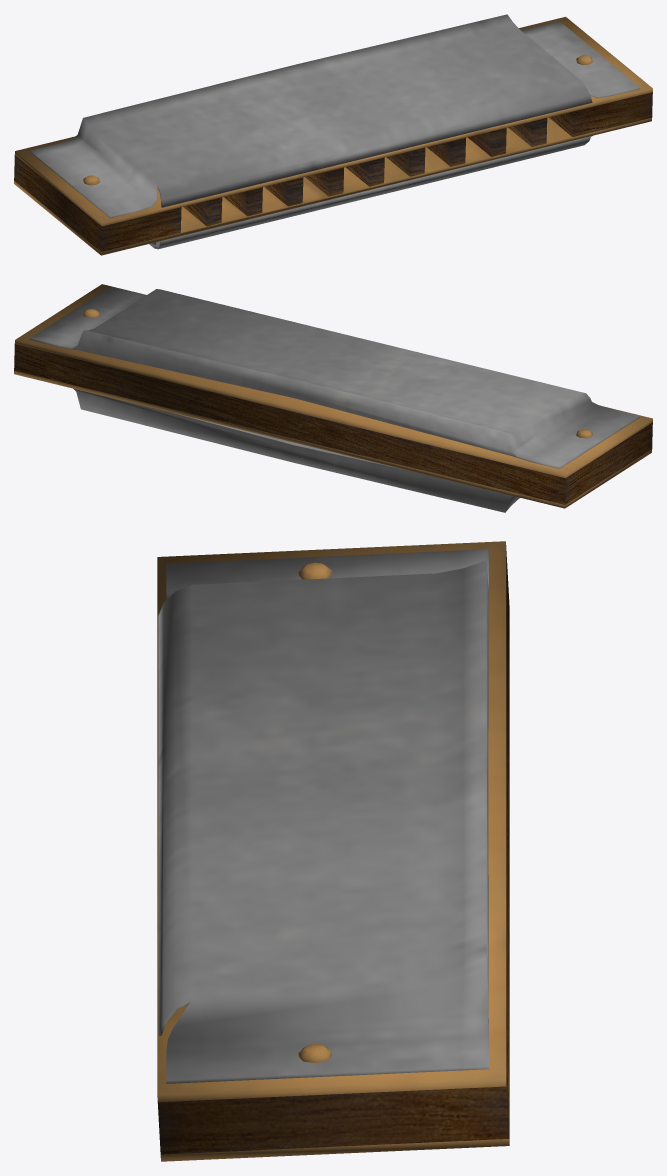
File: harmonica.glb
3 views of the same model, one above another, from view 1: azimuth 30°, elevation 25°; view 2: azimuth 150°, elevation 25°; view 3: azimuth 270°, elevation 25° (orthographic). The views are drawn at different scales.
Parts seen in each view (by area): view 1: Armonica LowPoly_0; view 2: Armonica LowPoly_0; view 3: Armonica LowPoly_0.
Part boxes in pixels (left/top/right/bottom): Armonica LowPoly_0: left=14, top=14, right=652, bottom=255; Armonica LowPoly_0: left=14, top=284, right=652, bottom=512; Armonica LowPoly_0: left=157, top=541, right=509, bottom=1161.
Bounding box in the file's own units: 0.0995 × 0.0138 × 0.0275.
1 material, 1 textured.
